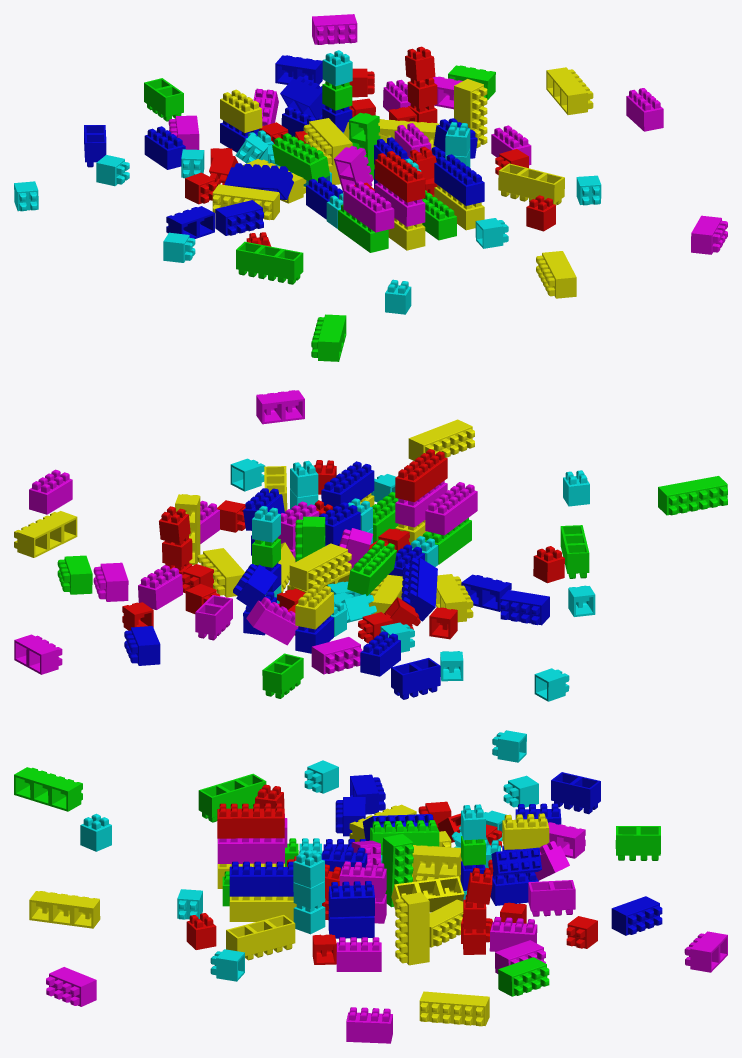
File: klocki.fbx
3 renders of one model, top to bottom at view 1: azimuth 30°, elevation 25°; view 2: azimuth 150°, elevation 25°; view 3: azimuth 270°, elevation 25°, orthographic. The views are drawn at different scales.
Visible parts, largest first — view 1: klocekx92, klocekx80, klocekx181, klocekx173, klocekx145, klocekx167, klocekx61, klocekx148, klocekx109, klocekx71, klocekx85, klocekx52 (+49 smaller); view 2: klocekx85, klocekx109, klocekx191, klocekx181, klocekx173, klocekx71, klocekx148, klocekx145, klocekx167, klocekx65, klocekx141, klocekx33 (+51 smaller); view 3: klocekx61, klocekx173, klocekx80, klocekx167, klocekx71, klocekx109, klocekx85, klocekx92, klocekx125, klocekx65, klocekx129, klocekx98 (+46 smaller).
Part boxes in pixels (x1,y1,x2,y2): klocekx92: (236,241,303,284); klocekx80: (498,163,564,205); klocekx181: (343,181,394,232); klocekx173: (374,151,425,202); klocekx145: (272,133,329,181); klocekx167: (434,154,484,205); klocekx61: (454,79,487,147); klocekx148: (224,163,293,199); klocekx109: (546,67,593,114); klocekx71: (536,251,576,298); klocekx85: (311,314,346,361); klocekx52: (212,184,279,220); klocekx85: (658,476,727,515); klocekx109: (14,511,77,557); klocekx191: (289,543,351,591); klocekx181: (425,482,477,535); klocekx173: (395,449,447,502); klocekx71: (408,419,474,461); klocekx148: (401,558,437,621); klocekx145: (347,539,396,595); klocekx167: (321,461,374,507); klocekx65: (391,658,440,699); klocekx141: (246,597,298,645); klocekx33: (29,469,72,514); klocekx61: (395,892,429,965); klocekx173: (217,803,284,838); klocekx80: (226,915,295,960); klocekx167: (229,861,293,896); klocekx71: (29,891,100,928); klocekx109: (419,991,489,1026); klocekx85: (14,767,82,811); klocekx92: (198,773,266,822); klocekx125: (217,838,284,863); klocekx65: (551,772,600,814); klocekx129: (328,881,374,917); klocekx98: (528,880,575,916).
Size of the model in its own units: 92.75 by 14.61 by 95.48.
